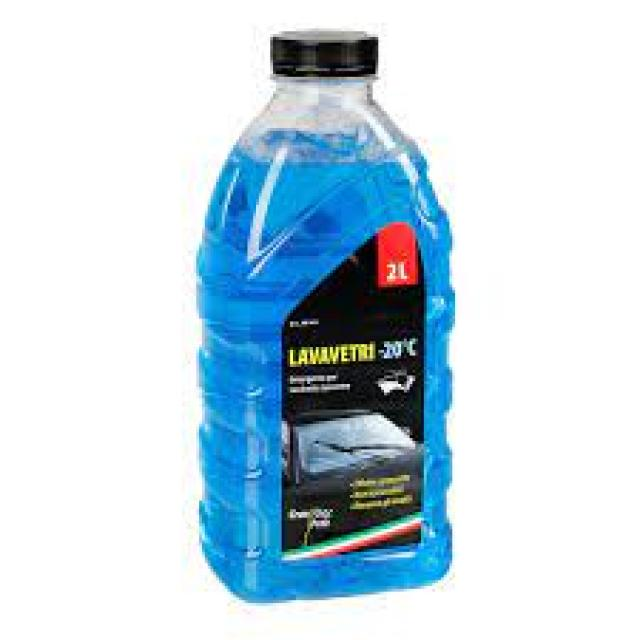winwinshield_washer: (192, 28, 460, 608)
